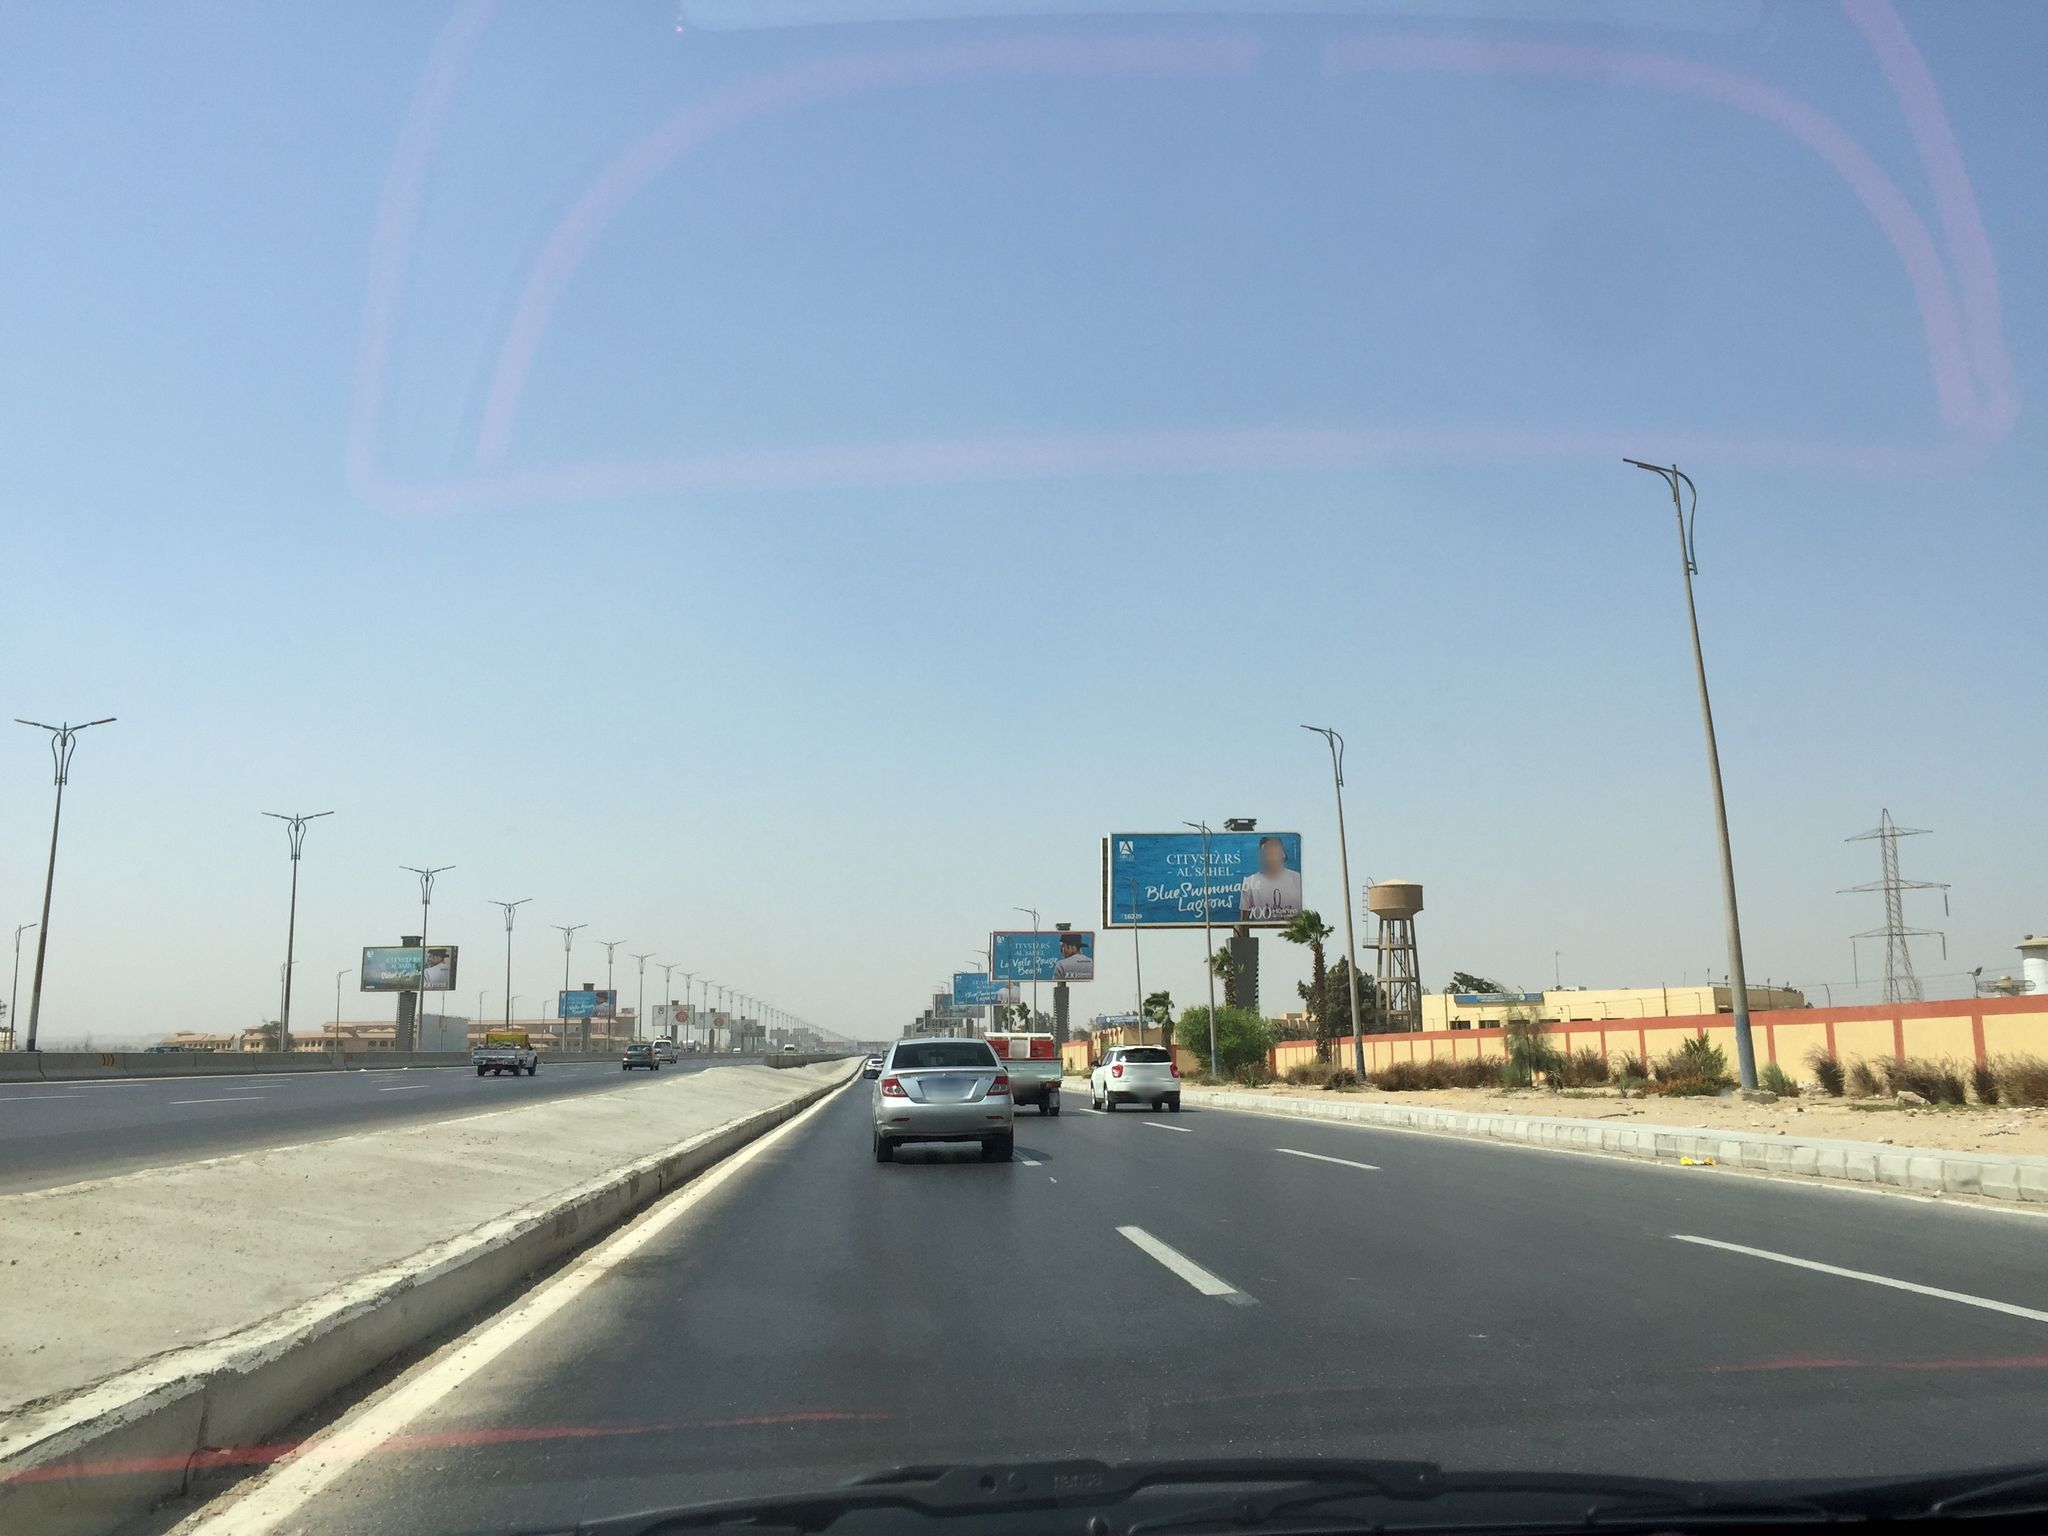car: (863, 1034, 1016, 1160), (1089, 1042, 1182, 1112), (619, 1042, 660, 1071), (650, 1034, 677, 1063)
truck: (980, 1029, 1064, 1117), (468, 1026, 542, 1075)
